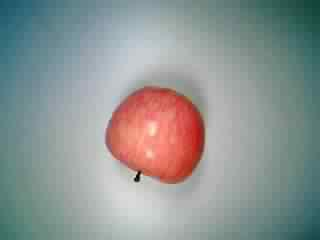apple: (100, 86, 206, 190)
